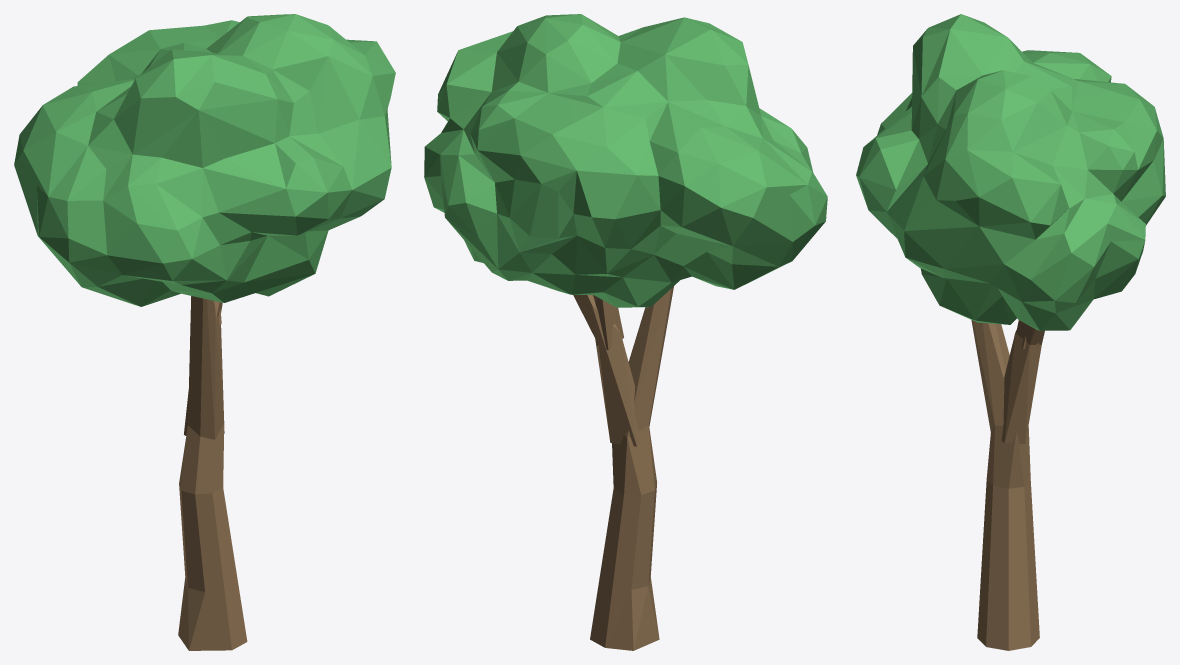
File: tree_2.glb
3 views of the same model, side by side, from view 1: azimuth 30°, elevation 25°; view 2: azimuth 150°, elevation 25°; view 3: azimuth 270°, elevation 25° (orthographic). The views are drawn at different scales.
Visible parts, largest first — view 1: tree2; view 2: tree2; view 3: tree2.
Part boxes in pixels (x1,y1,x2,y2): tree2: (14,14,395,650); tree2: (424,14,827,650); tree2: (856,14,1165,650).
Size of the model in its own units: 2.34 by 3.8 by 1.8.
